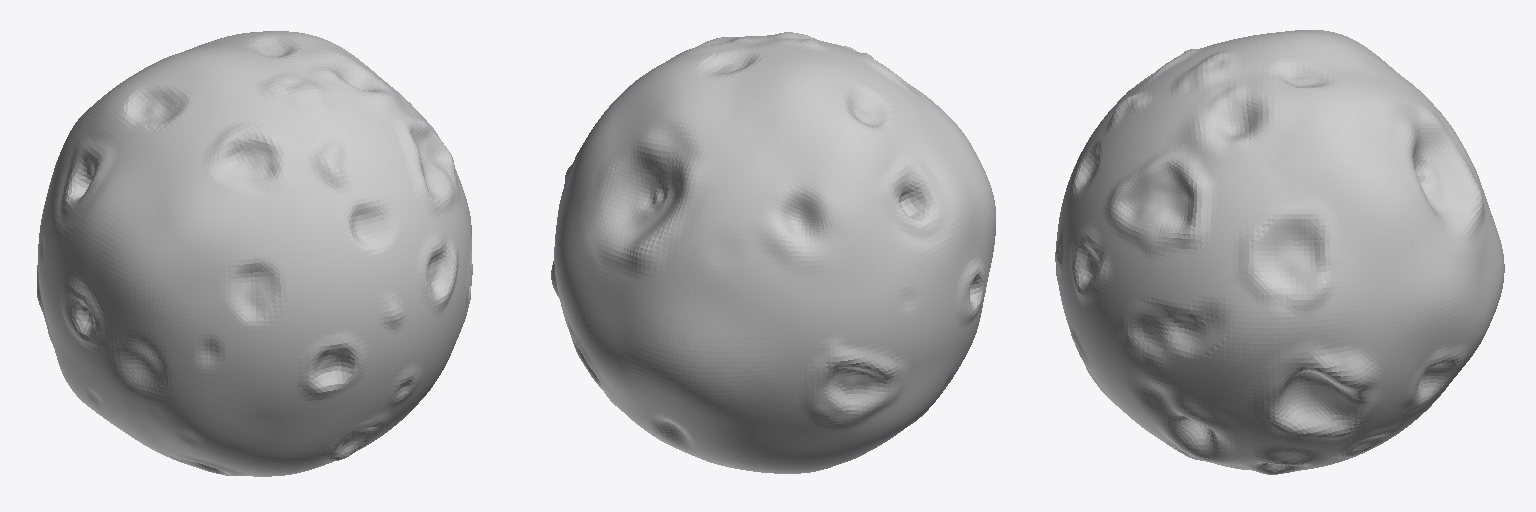
The model's file is Moon.obj.
3 renders of one model, left to right at view 1: azimuth 30°, elevation 25°; view 2: azimuth 150°, elevation 25°; view 3: azimuth 270°, elevation 25°, orthographic.
Visible parts, largest first — view 1: Quad_Sphere; view 2: Quad_Sphere; view 3: Quad_Sphere.
Boxes of the visible parts, box(x1,y1,x2,y2) form: Quad_Sphere: box(37, 31, 472, 476); Quad_Sphere: box(551, 32, 995, 473); Quad_Sphere: box(1055, 30, 1504, 474).
Bounding box in the file's own units: 2.63 × 2.61 × 2.64.